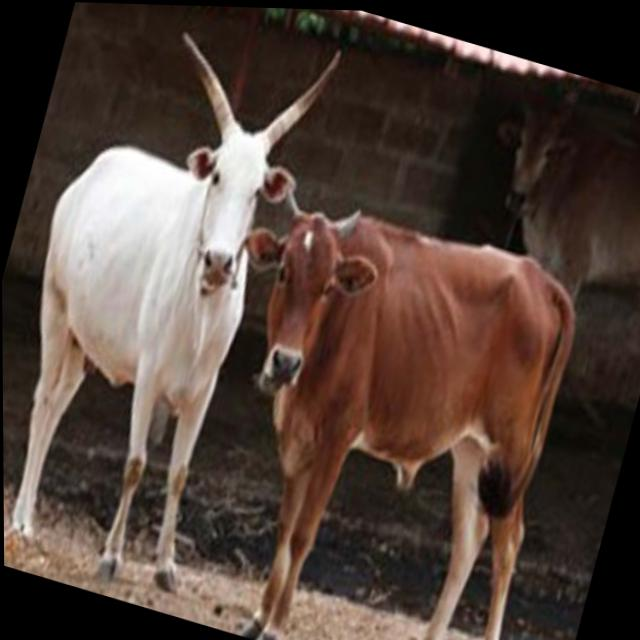cowFace: (116, 3, 357, 309), (206, 148, 407, 415)
